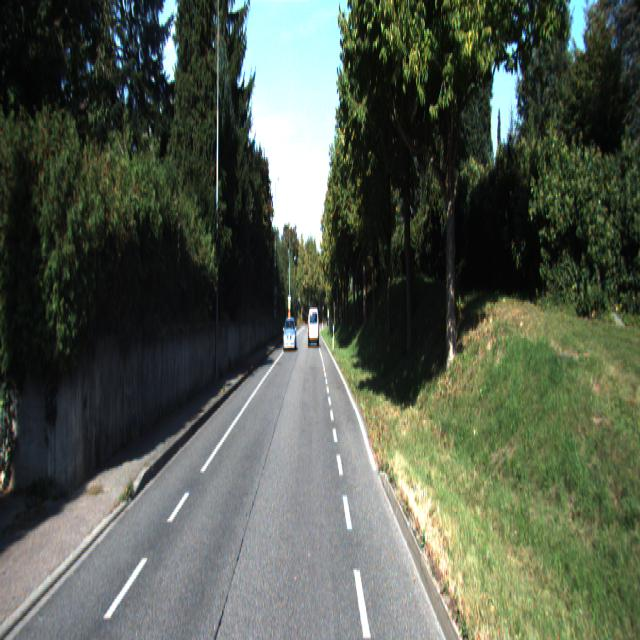Car: (307, 306, 320, 348), (282, 316, 296, 352)
